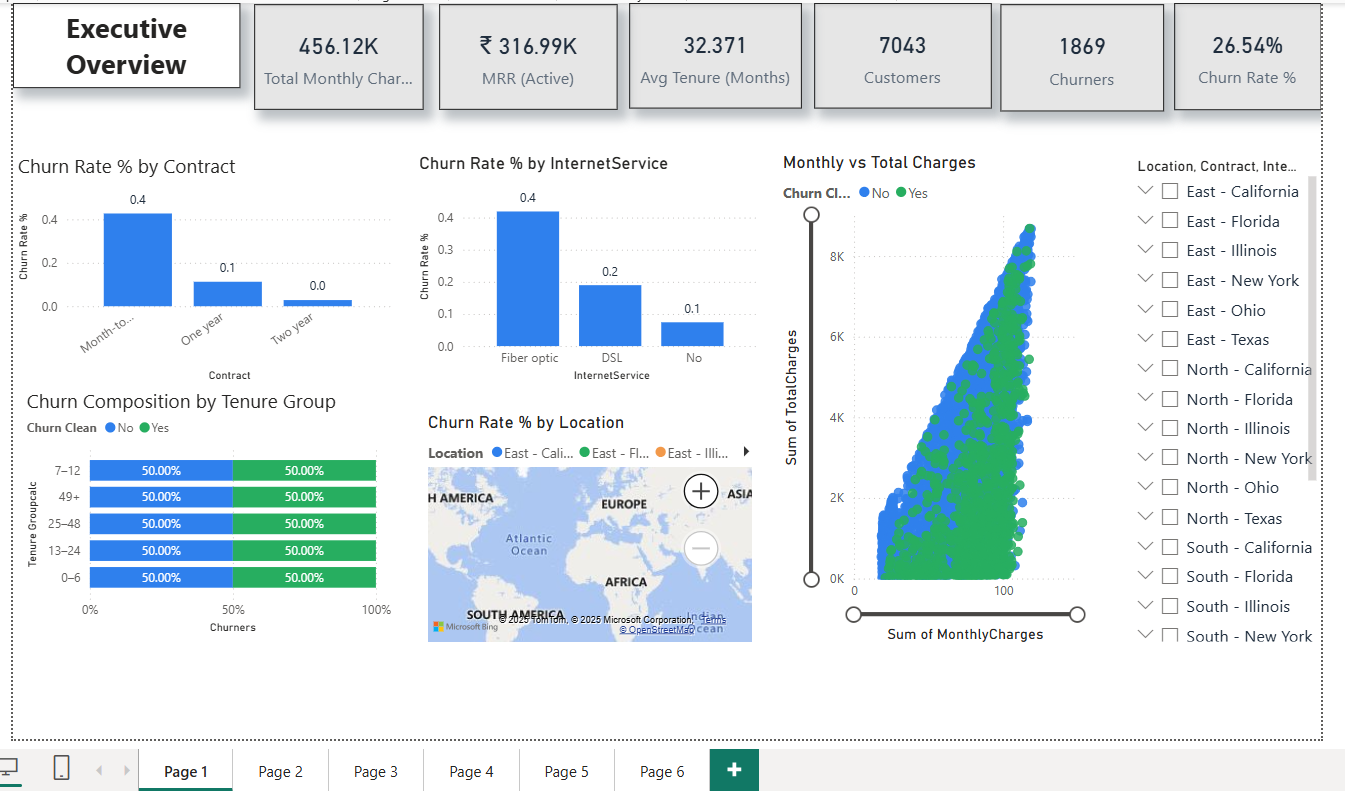

This screenshot's page, from the dashboard's own definition file:
{"tool":"powerbi","page":{"name":"Page 1","canvas":[1280,720],"ordinal":0},"visuals":[{"type":"textbox","box":[0,0,222.2,83.3],"z":0},{"type":"card","fields":{"Values":["data.Total Monthly Charges"]},"box":[235.6,1.1,165.6,103.3],"z":1},{"type":"card","fields":{"Values":["data.Customers"]},"box":[783.3,0,173.3,103.3],"z":2},{"type":"card","fields":{"Values":["data.Churn Rate %"]},"box":[1136.5,0,143.8,104.7],"z":3},{"type":"card","fields":{"Values":["data.Avg Tenure (Months)"]},"box":[603.3,0,168.9,103.3],"z":4},{"type":"card","fields":{"Values":["data.Churners"]},"box":[965.6,1.1,160,104.4],"z":5},{"type":"card","fields":{"Values":["data.MRR (Active)"]},"box":[416.7,1.1,174.4,103.3],"z":6},{"type":"clusteredColumnChart","fields":{"Y":["data.Churn Rate %"],"Category":["data.Contract"]},"box":[0,146.7,375.6,228.9],"z":7},{"type":"hundredPercentStackedBarChart","title":"Churn Composition by Tenure Group","fields":{"Y":["data.Churners"],"Category":["data.Tenure Groupcalc"],"Series":["data.Churn Clean"]},"box":[8.9,376.7,366.7,245.6],"z":8},{"type":"clusteredColumnChart","fields":{"Category":["data.InternetService"],"Y":["data.Churn Rate %"]},"box":[392.2,146.7,343.3,228.9],"z":9},{"type":"map","fields":{"Series":["data.Location"],"Size":["data.Churn Rate %"]},"box":[401.1,400,326.7,230],"z":10},{"type":"scatterChart","title":"Monthly vs Total Charges","fields":{"X":["Sum(data.MonthlyCharges)"],"Y":["Sum(data.TotalCharges)"],"Category":["data.customerID"],"Series":["data.Churn Clean"]},"box":[747.8,145.6,307.8,484.4],"z":11},{"type":"slicer","fields":{"Values":["data.Location","data.Contract","data.InternetService","data.Tenure Groupcalc","data.SeniorCitizen","data.PaymentMethod"]},"box":[1086.7,145.6,193.3,484.4],"z":12}]}

Visuals, with their boxes on the page's 1280x720 design canvas (x1, y1, x2, y2). These are canvas units, not pixel positions in the 1345x791 screenshot, which may show the page scaled, cropped or inside an application window:
textbox: bbox=[0, 0, 222, 83]
card - data.Total Monthly Charges: bbox=[236, 1, 401, 104]
card - data.Customers: bbox=[783, 0, 957, 103]
card - data.Churn Rate %: bbox=[1136, 0, 1280, 105]
card - data.Avg Tenure (Months): bbox=[603, 0, 772, 103]
card - data.Churners: bbox=[966, 1, 1126, 106]
card - data.MRR (Active): bbox=[417, 1, 591, 104]
clusteredColumnChart - data.Churn Rate % x data.Contract: bbox=[0, 147, 376, 376]
"Churn Composition by Tenure Group" hundredPercentStackedBarChart: bbox=[9, 377, 376, 622]
clusteredColumnChart - data.InternetService x data.Churn Rate %: bbox=[392, 147, 736, 376]
map - data.Location x data.Churn Rate %: bbox=[401, 400, 728, 630]
"Monthly vs Total Charges" scatterChart: bbox=[748, 146, 1056, 630]
slicer - data.Location x data.Contract: bbox=[1087, 146, 1280, 630]
